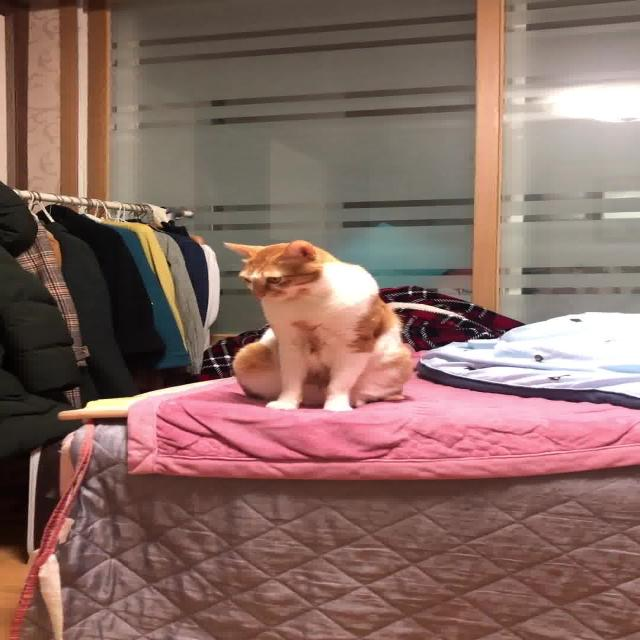cat: (214, 233, 422, 415)
